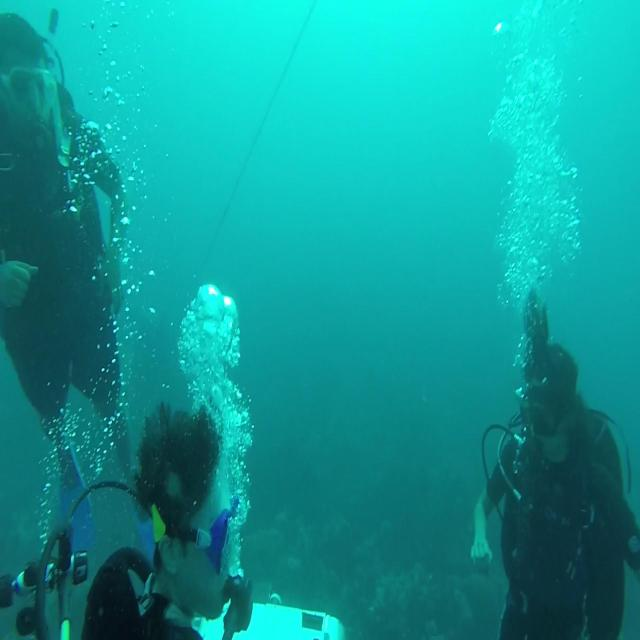human: (1, 9, 132, 578), (470, 289, 639, 638), (80, 400, 253, 638)
